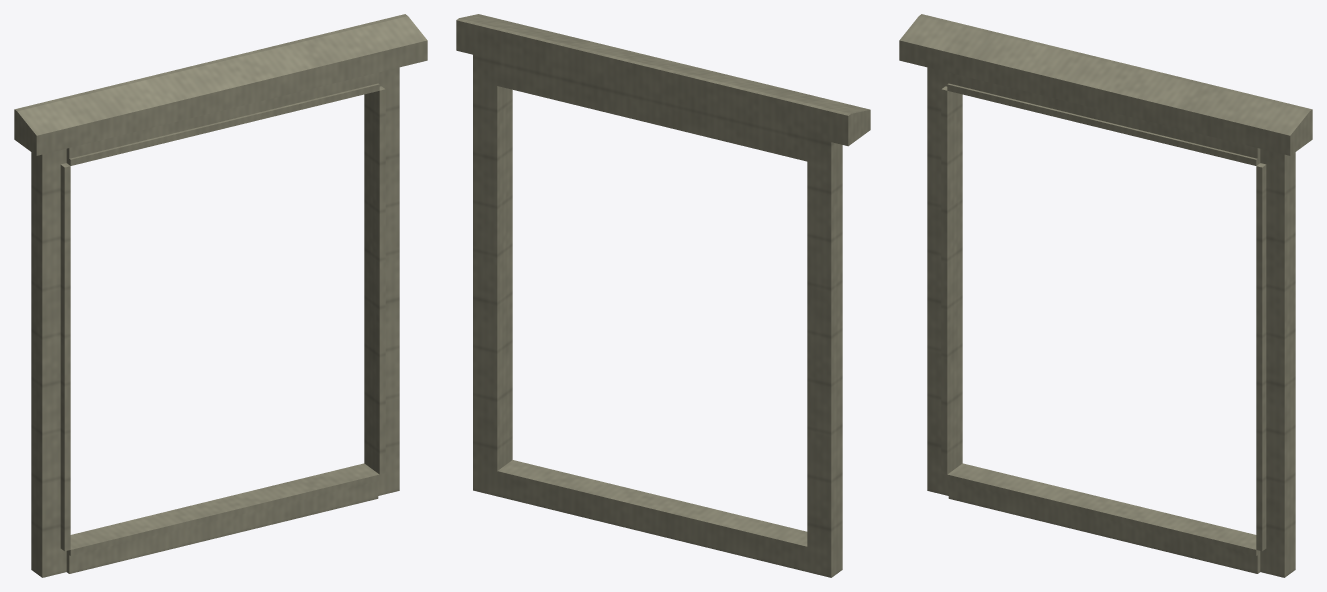
Rendered from residential-cedar-window-surround.lod0.glb.
3 renders of one model, left to right at view 1: azimuth 30°, elevation 25°; view 2: azimuth 150°, elevation 25°; view 3: azimuth 330°, elevation 25°, orthographic.
Visible parts, largest first — view 1: residential-cedar-window-surround; view 2: residential-cedar-window-surround; view 3: residential-cedar-window-surround.
Boxes of the visible parts, x1=… form: residential-cedar-window-surround: x1=14, y1=14, x2=427, y2=577; residential-cedar-window-surround: x1=456, y1=14, x2=870, y2=577; residential-cedar-window-surround: x1=899, y1=14, x2=1312, y2=577.
Bounding box in the file's own units: 1.62 × 1.84 × 0.16.
Materials: 1 (1 with a texture image).
